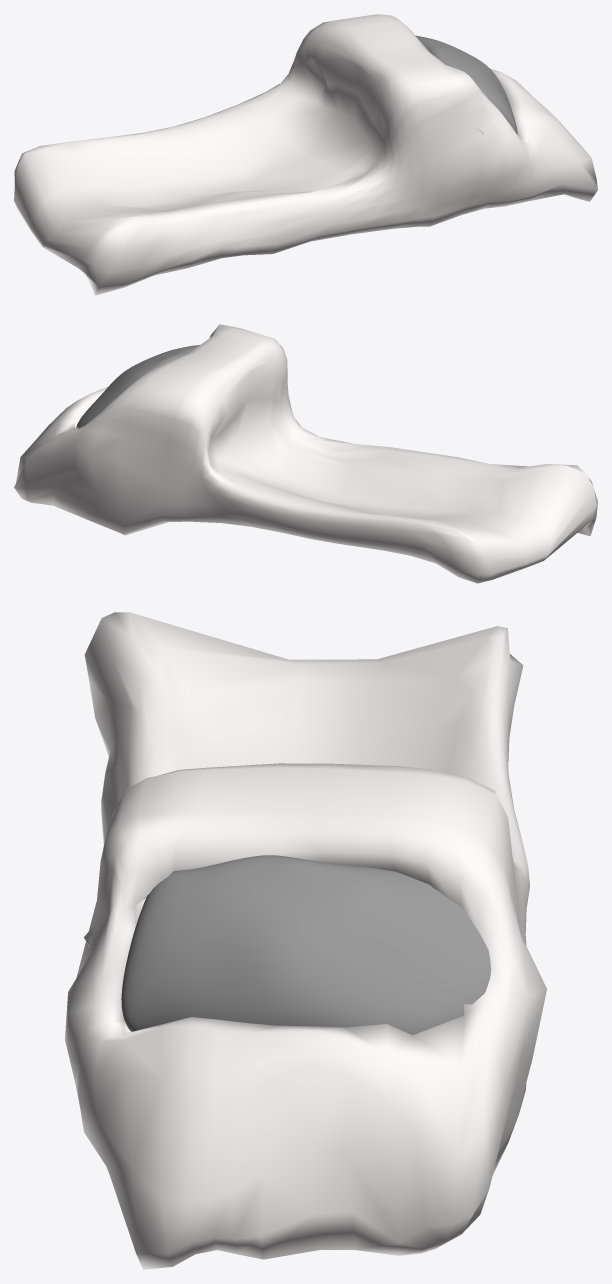
Rendered from Lv69_Snow.fbx.
3 views of the same model, one above another, from view 1: azimuth 30°, elevation 25°; view 2: azimuth 150°, elevation 25°; view 3: azimuth 270°, elevation 25° (orthographic). The views are drawn at different scales.
Parts seen in each view (by area): view 1: Car_Snow, Window_Snow; view 2: Car_Snow, Window_Snow; view 3: Car_Snow, Window_Snow.
Part boxes in pixels (x1=…): Car_Snow: x1=14, y1=14, x2=597, y2=295; Window_Snow: x1=415, y1=35, x2=517, y2=134; Car_Snow: x1=14, y1=324, x2=597, y2=583; Window_Snow: x1=76, y1=345, x2=199, y2=428; Car_Snow: x1=65, y1=612, x2=546, y2=1269; Window_Snow: x1=121, y1=855, x2=491, y2=1035.
Bounding box in the file's own units: 1615 × 497 × 658.
2 materials, 1 textured.
